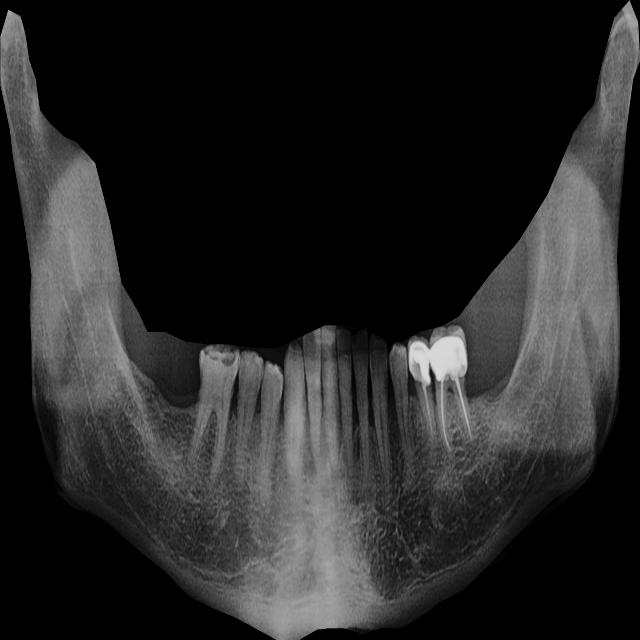mandibula: (0, 0, 640, 640)
